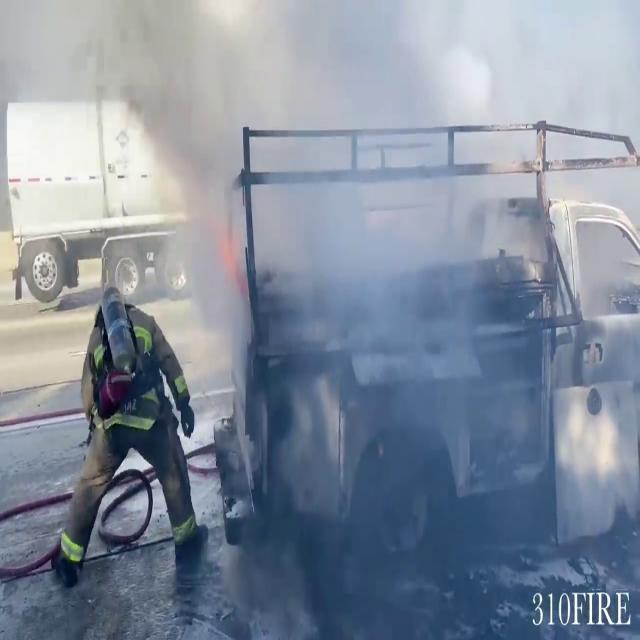Smoke: (221, 9, 640, 596)
